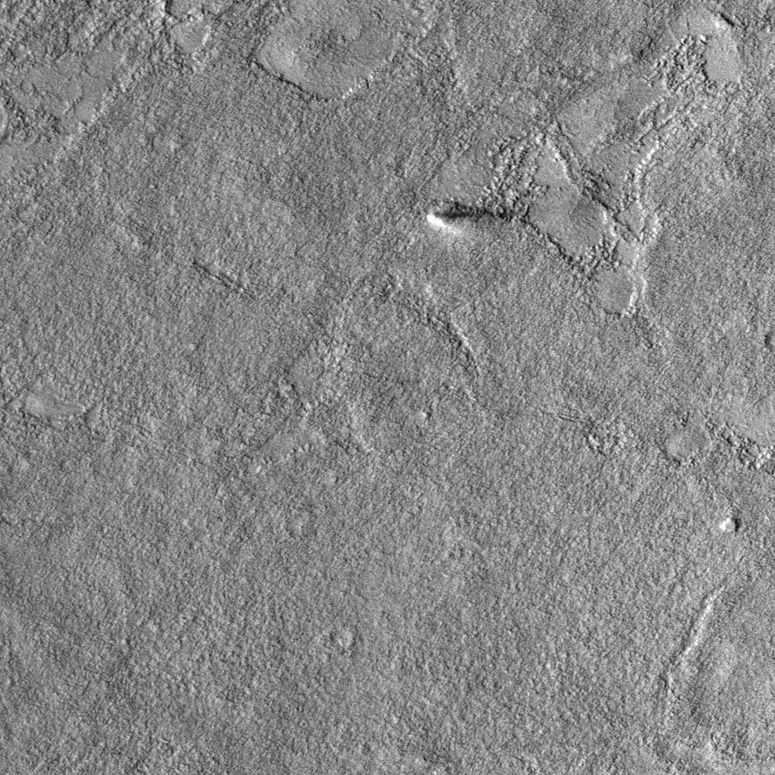dust_devil: (424, 199, 508, 235)
